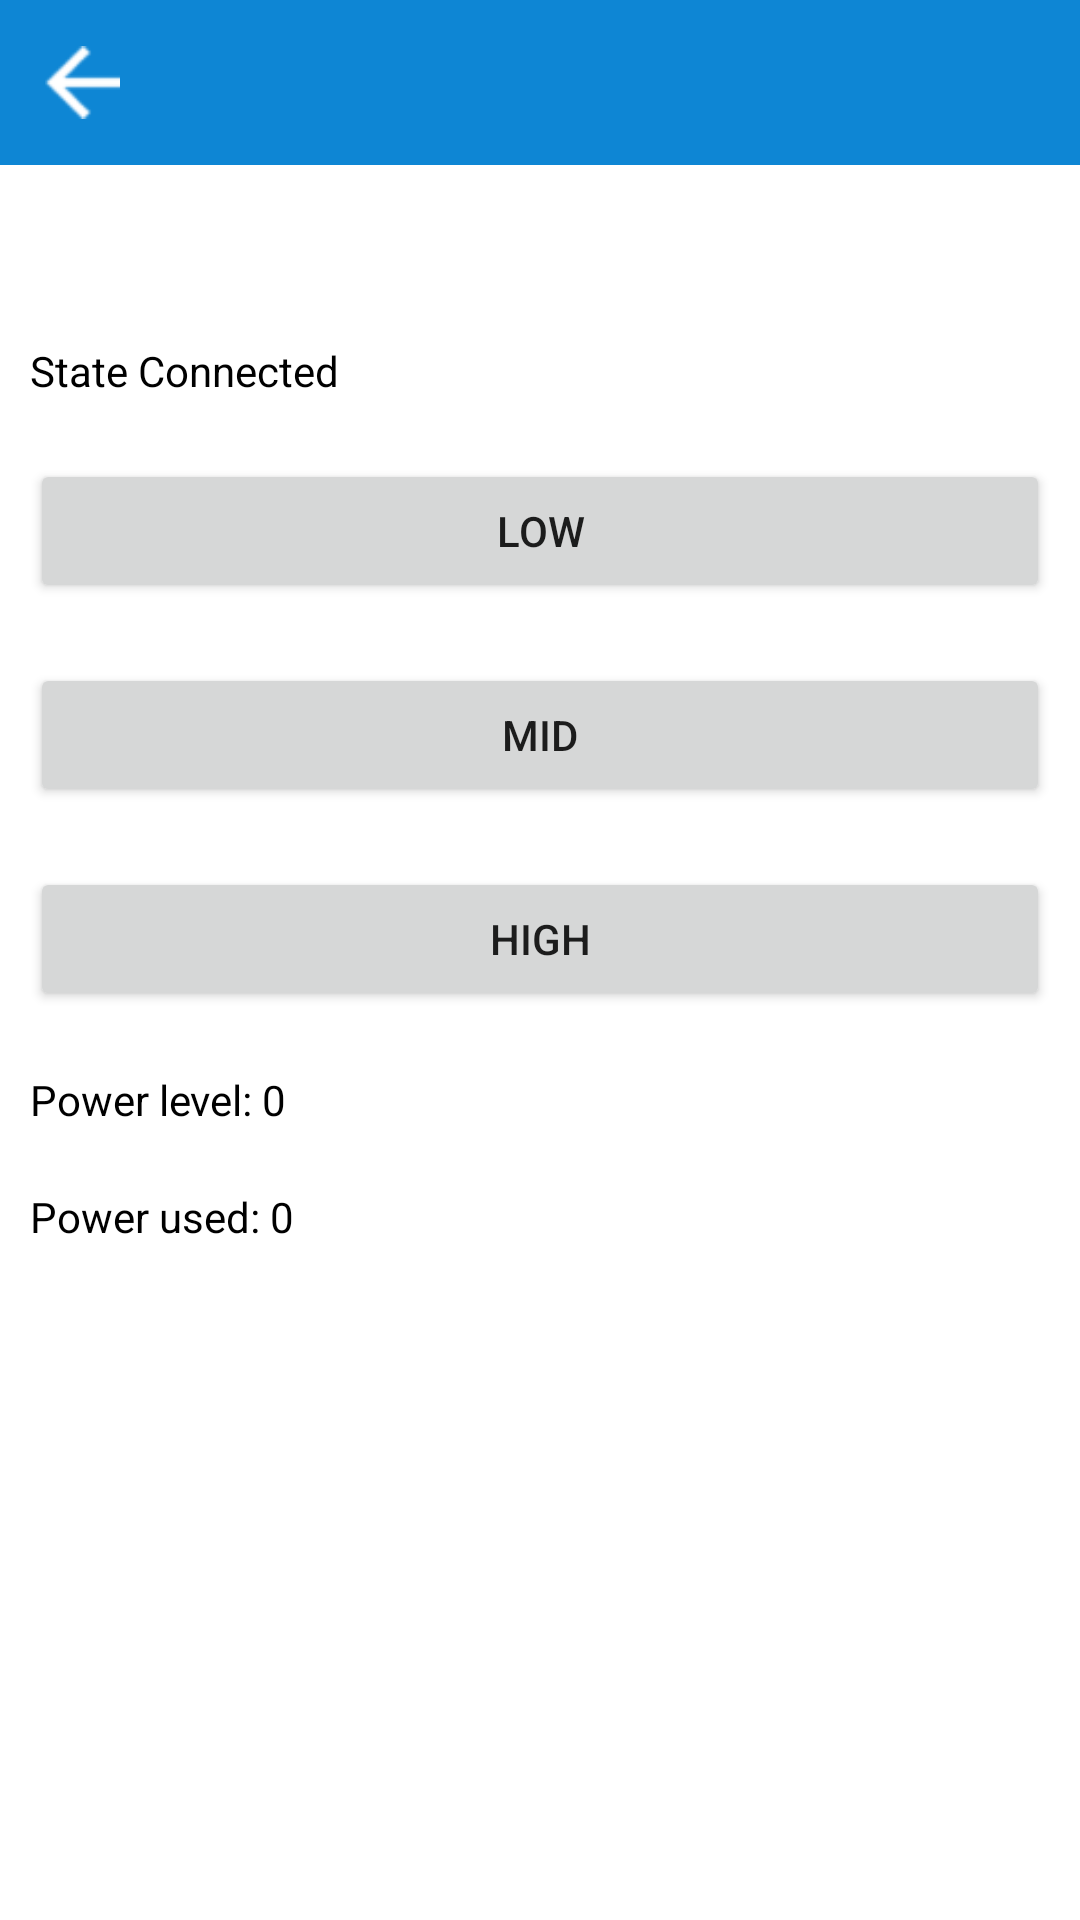

Screen size 1080w x 1920h. Icon name, then its box in pixels as (x1, y1, x2, y2):
back: (45, 46, 120, 119)
